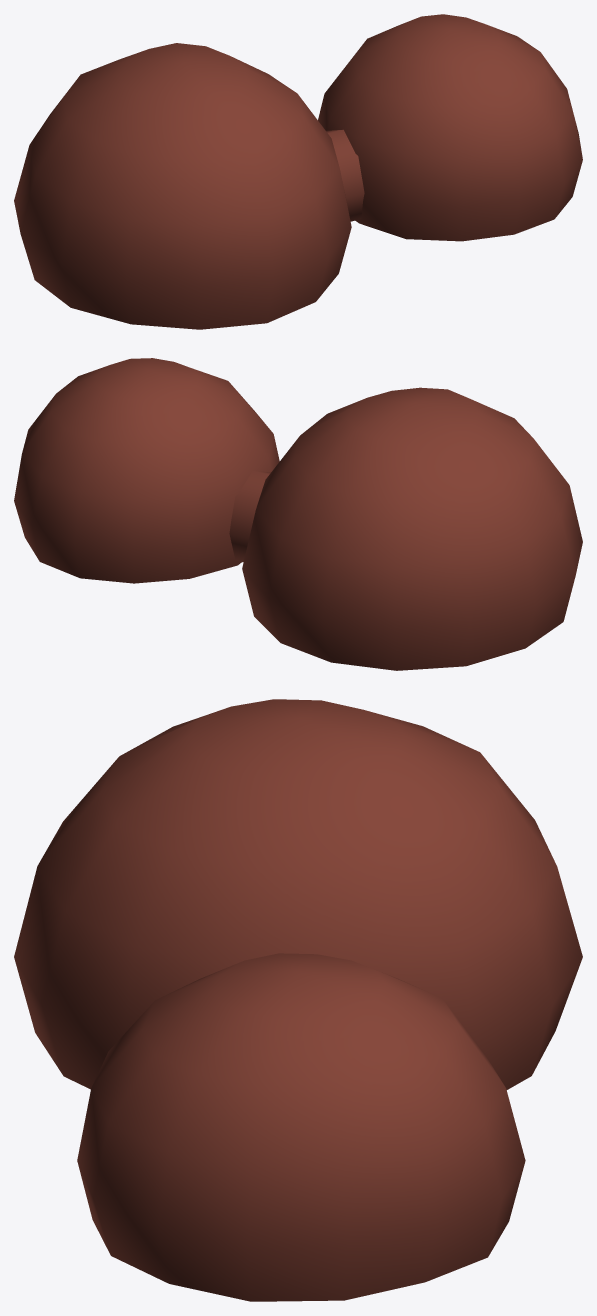
File: heath_grouse_liver.glb
3 renders of one model, top to bottom at view 1: azimuth 30°, elevation 25°; view 2: azimuth 150°, elevation 25°; view 3: azimuth 270°, elevation 25°, orthographic. The views are drawn at different scales.
Visible parts, largest first — view 1: heath_grouse_liver; view 2: heath_grouse_liver; view 3: heath_grouse_liver.
Part boxes in pixels (x1=…): heath_grouse_liver: x1=14, y1=14, x2=582, y2=329; heath_grouse_liver: x1=14, y1=358, x2=582, y2=670; heath_grouse_liver: x1=14, y1=699, x2=582, y2=1301.
Bounding box in the file's own units: 0.025 × 0.01 × 0.015.
